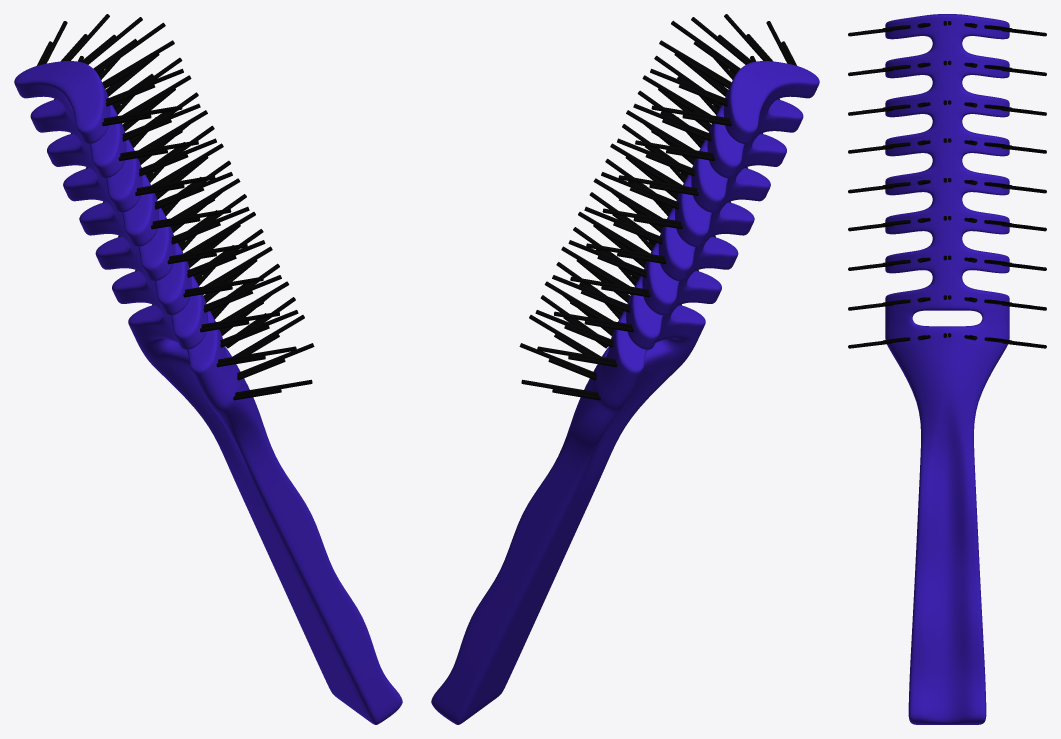
File: hairbrush.glb
3 views of the same model, side by side, from view 1: azimuth 30°, elevation 25°; view 2: azimuth 150°, elevation 25°; view 3: azimuth 270°, elevation 25° (orthographic). The views are drawn at different scales.
Parts seen in each view (by area): view 1: Object_2, Object_3; view 2: Object_2, Object_3; view 3: Object_2, Object_3.
Part boxes in pixels (x1,y1,x2,y2): Object_2: [14, 61, 402, 724]; Object_3: [37, 14, 314, 400]; Object_2: [431, 61, 819, 724]; Object_3: [519, 14, 796, 400]; Object_2: [885, 14, 1009, 724]; Object_3: [848, 21, 1046, 348].
Size of the model in its own units: 0.0904 by 0.1901 by 0.0551.
